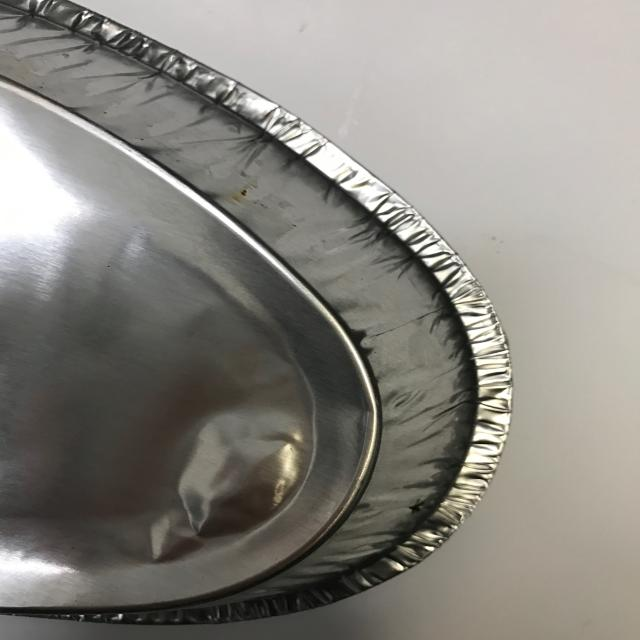metal: (0, 0, 514, 626)
